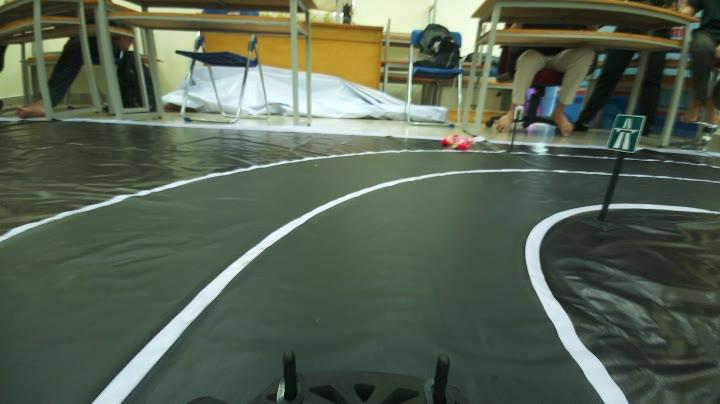highway_entry: (598, 108, 650, 158)
